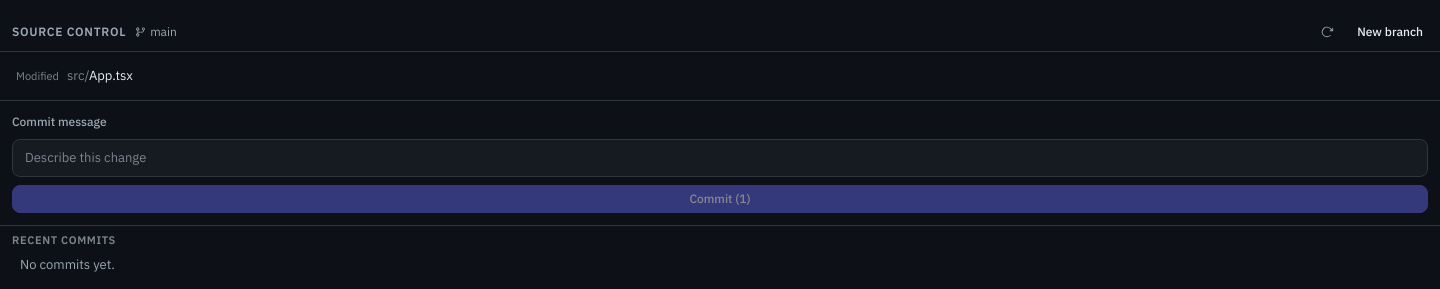
Scenario: SourceControlPanel › keeps the commit button disabled until a message is typed
This screenshot has width=1440, height=289.
Expected: the button "Commit (1)" is disabled, [12, 184, 1428, 212]
Type "x" into the field labelled "Commit message".
click(720, 158); type("x")  # box [12, 139, 1428, 176]
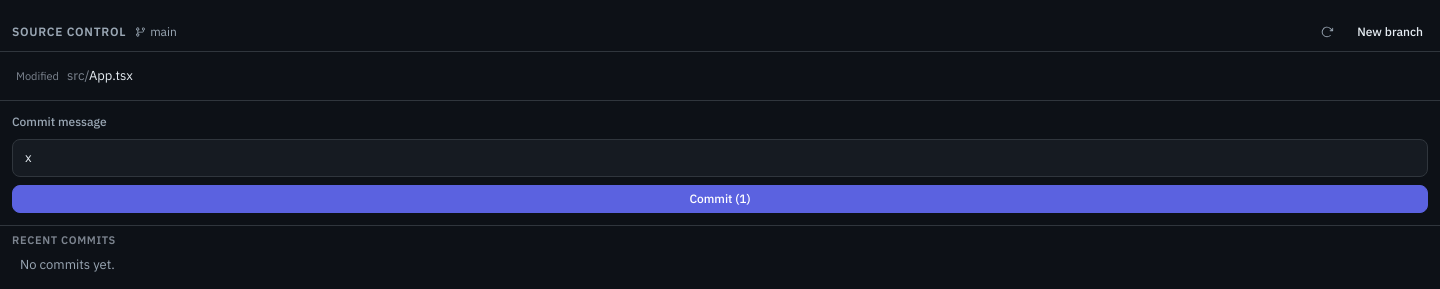
Expected: the button "Commit (1)" is enabled, [12, 184, 1428, 212]
